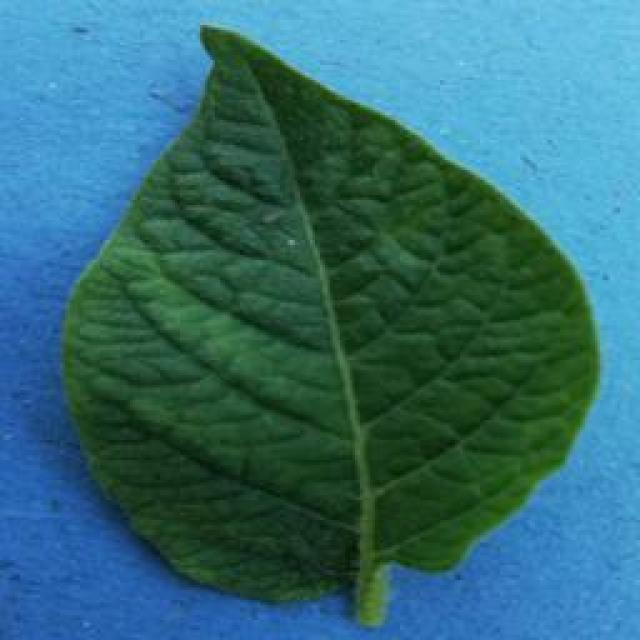Potato_Healthy: (63, 21, 593, 620)
